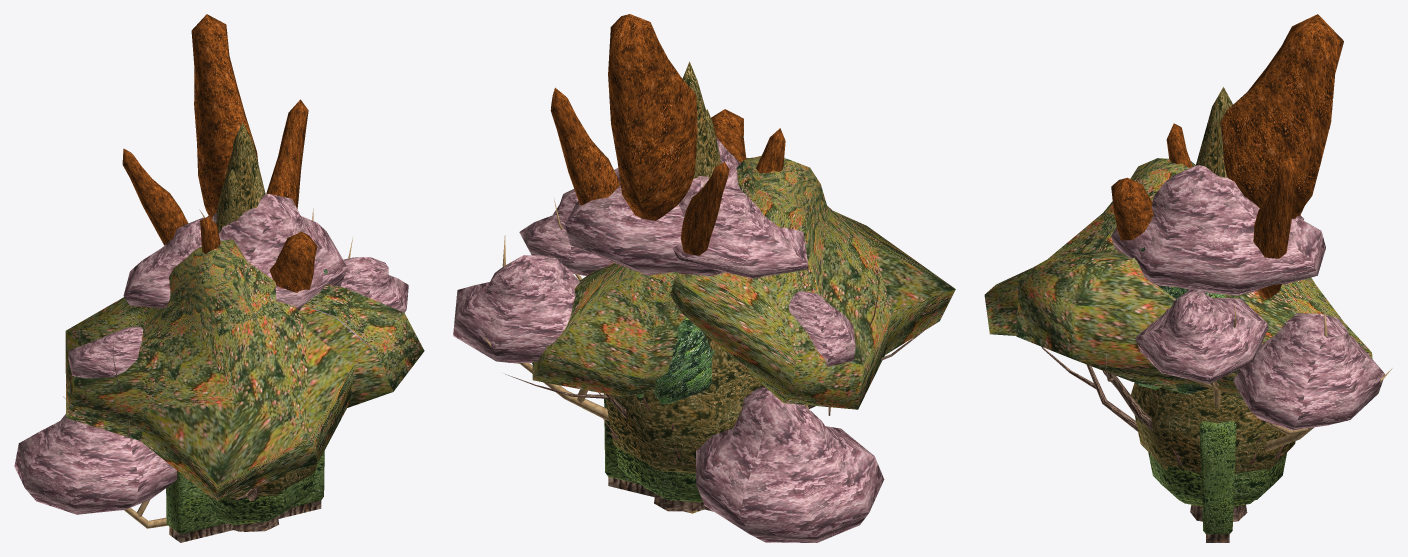
The model's file is Treez.fbx.
The picture shows the model from 3 angles, left to right: view 1: azimuth 30°, elevation 25°; view 2: azimuth 150°, elevation 25°; view 3: azimuth 270°, elevation 25°; orthographic projection. The views are drawn at different scales.
Visible parts, largest first — view 1: TreeB6, TreeC1, TreeC4, TreeB5, TreeC2, TreeD4, TreeB2, TreeD1, TreeC3, TreeB1, TreeD3; view 2: TreeC1, TreeB6, TreeC4, TreeB5, TreeC2, TreeB1, TreeB2, TreeA4, TreeD1, TreeD4, TreeC3; view 3: TreeC1, TreeB5, TreeC4, TreeC2, TreeB6, TreeB1, TreeB2, TreeD4, TreeD1, TreeC3, TreeA2.
Part boxes in pixels (bbox=[...]): TreeB6: bbox=[63, 239, 355, 502]; TreeC1: bbox=[14, 193, 347, 528]; TreeC4: bbox=[122, 14, 308, 253]; TreeB5: bbox=[299, 284, 424, 407]; TreeC2: bbox=[68, 216, 408, 378]; TreeD4: bbox=[166, 451, 324, 542]; TreeB2: bbox=[216, 122, 265, 232]; TreeD1: bbox=[209, 472, 314, 531]; TreeC3: bbox=[269, 231, 317, 292]; TreeB1: bbox=[219, 169, 316, 498]; TreeD3: bbox=[210, 503, 296, 531]; TreeC1: bbox=[453, 137, 884, 542]; TreeB6: bbox=[670, 156, 955, 415]; TreeC4: bbox=[550, 14, 785, 513]; TreeB5: bbox=[505, 157, 752, 418]; TreeC2: bbox=[519, 178, 855, 366]; TreeB1: bbox=[598, 109, 763, 473]; TreeB2: bbox=[605, 61, 764, 440]; TreeA4: bbox=[653, 323, 714, 404]; TreeD1: bbox=[615, 446, 700, 511]; TreeD4: bbox=[604, 393, 712, 511]; TreeC3: bbox=[711, 109, 746, 162]; TreeC1: bbox=[1111, 165, 1392, 451]; TreeB5: bbox=[1016, 252, 1372, 430]; TreeC4: bbox=[1166, 14, 1343, 299]; TreeC2: bbox=[1135, 215, 1303, 409]; TreeB6: bbox=[984, 158, 1229, 431]; TreeB1: bbox=[1131, 382, 1295, 473]; TreeB2: bbox=[1139, 87, 1285, 458]; TreeD4: bbox=[1199, 420, 1236, 542]; TreeD1: bbox=[1148, 452, 1286, 521]; TreeC3: bbox=[1111, 177, 1153, 240]; TreeA2: bbox=[1135, 247, 1225, 394].
Size of the model in its own units: 361 by 452 by 332.
